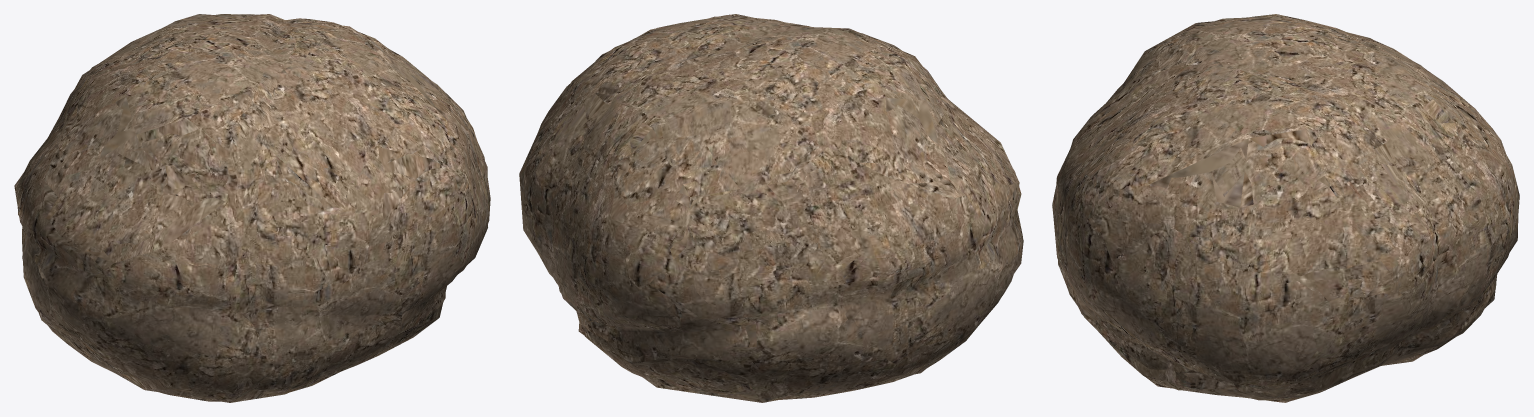
The model's file is rock-0.glb.
3 renders of one model, left to right at view 1: azimuth 30°, elevation 25°; view 2: azimuth 150°, elevation 25°; view 3: azimuth 270°, elevation 25°, orthographic. The views are drawn at different scales.
Visible parts, largest first — view 1: rock, rock_far; view 2: rock, rock_far; view 3: rock, rock_far.
Part boxes in pixels (<box>): rock: <box>17,14,490,401</box>; rock_far: <box>14,14,487,402</box>; rock: <box>522,16,1022,399</box>; rock_far: <box>519,14,1023,402</box>; rock: <box>1053,14,1519,400</box>; rock_far: <box>1052,21,1518,402</box>.
Size of the model in its own units: 2.01 by 1.23 by 1.84.
1 material, 1 textured.
